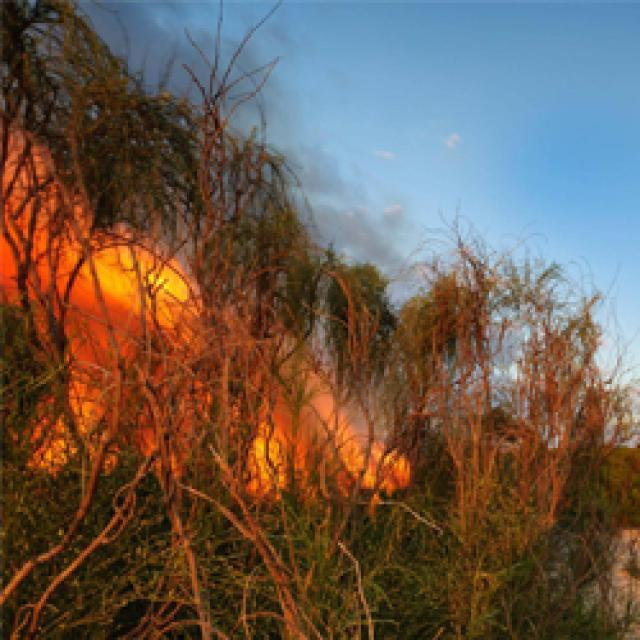Fire: (0, 120, 431, 511), (0, 91, 218, 365), (207, 311, 426, 515)
Smoke: (242, 41, 447, 296)
